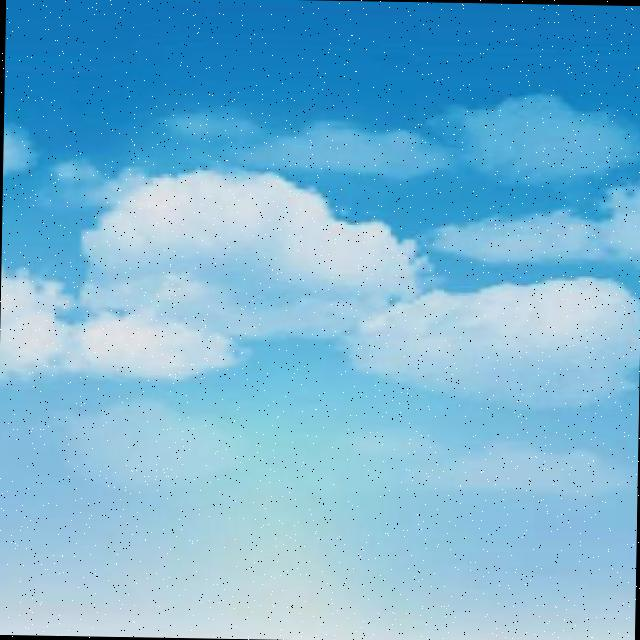Cu: (1, 96, 640, 427)
